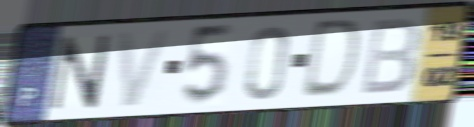0: (242, 24, 291, 103)
5: (178, 21, 240, 110)
B: (358, 15, 422, 98)
D: (297, 17, 364, 102)
N: (46, 31, 114, 113)
V: (116, 27, 175, 111)
